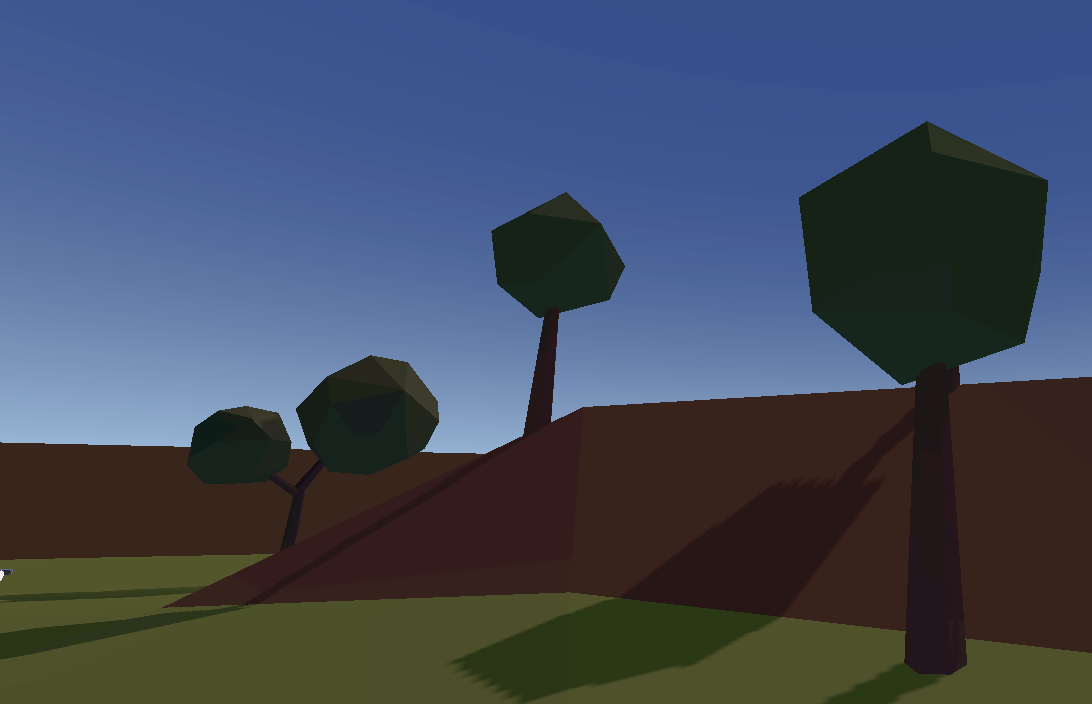tree: (777, 116, 1055, 674), (174, 350, 441, 563), (477, 190, 632, 438)
